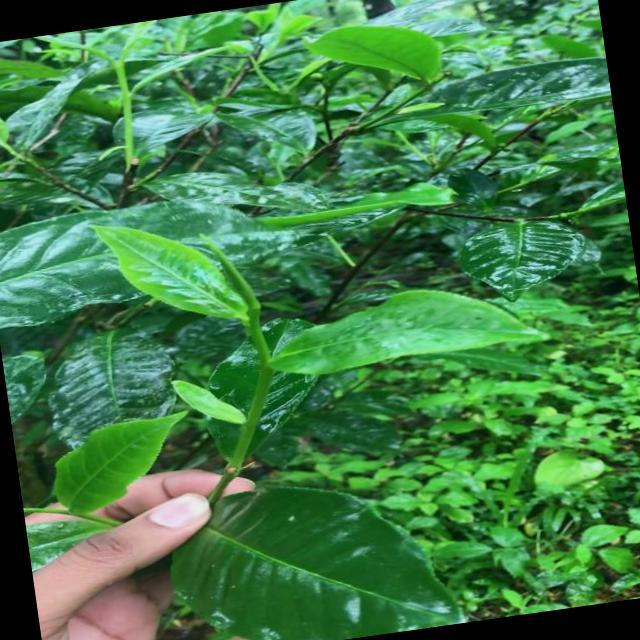Stem: (259, 365, 275, 382)
